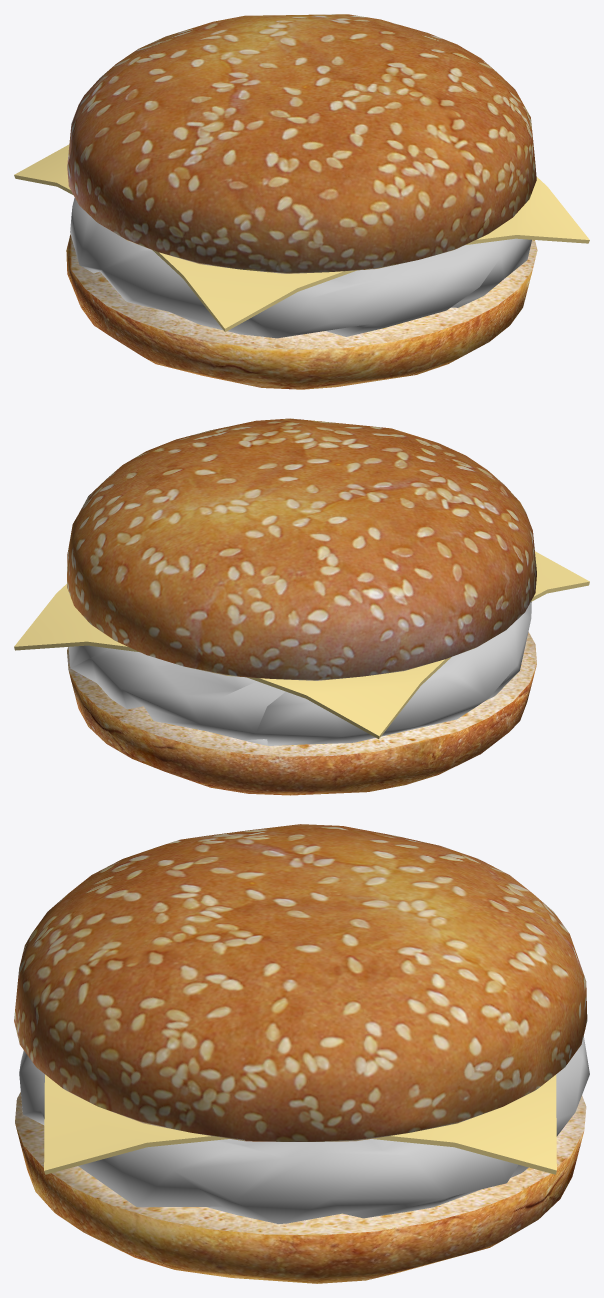
File: Burger.fbx
3 renders of one model, top to bottom at view 1: azimuth 30°, elevation 25°; view 2: azimuth 150°, elevation 25°; view 3: azimuth 270°, elevation 25°, orthographic. The views are drawn at different scales.
Visible parts, largest first — view 1: Burger; view 2: Burger; view 3: Burger.
Boxes of the visible parts, x1=… form: Burger: x1=14, y1=14, x2=589, y2=389; Burger: x1=14, y1=418, x2=589, y2=795; Burger: x1=14, y1=824, x2=589, y2=1283.
Size of the model in its own units: 13.96 by 8.38 by 13.91.
